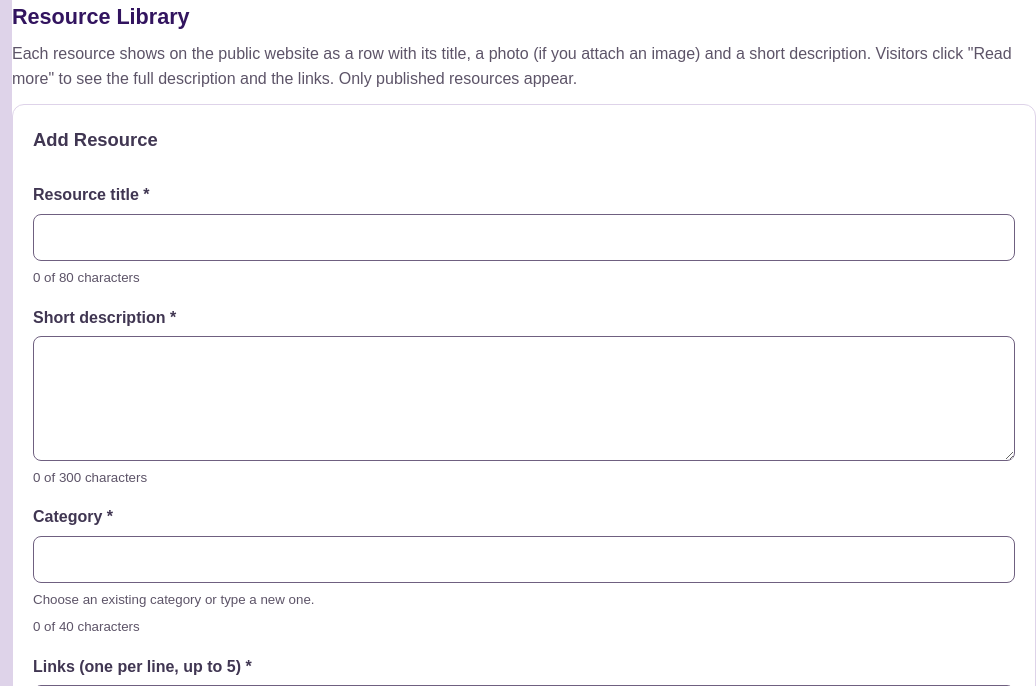
Test case: AdminResources: the form › shows character counters that follow the typing
This screenshot has width=1036, height=686.
Expected: the text "0 of 80 characters" is shown, [33, 270, 140, 285]
Type "Hello" into the field labelled "Resource title *" at (524, 238), box [33, 214, 1015, 261]
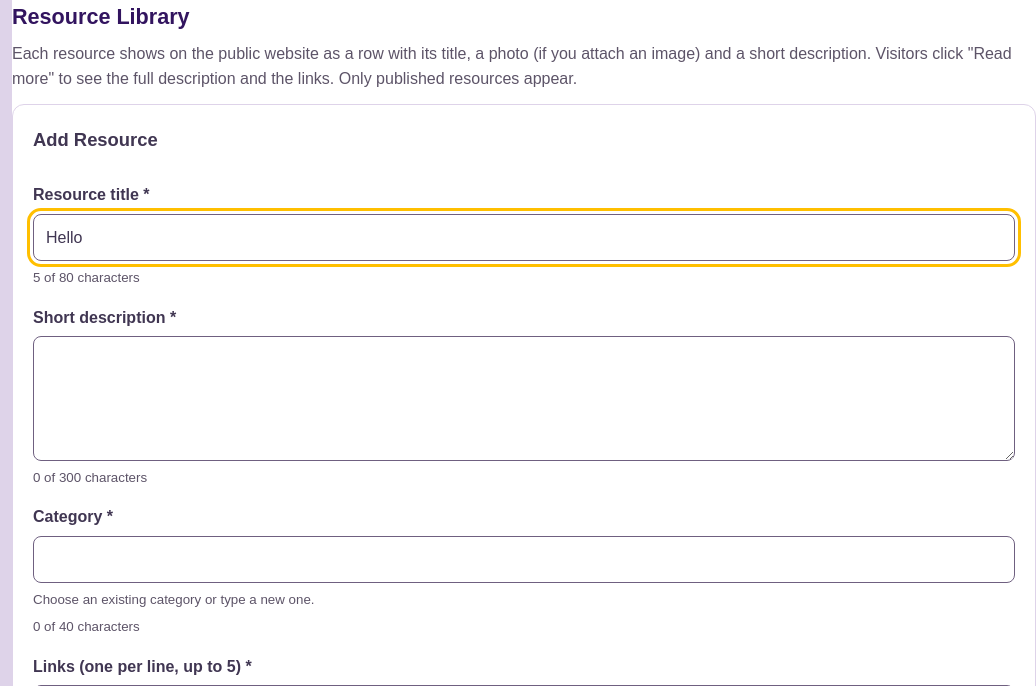
Expected: the text "5 of 80 characters" is shown, [33, 270, 140, 285]
